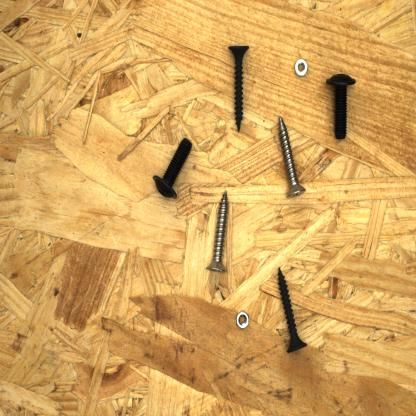screw: (275, 263, 312, 356), (151, 132, 195, 202), (277, 113, 309, 203), (203, 189, 234, 276), (324, 67, 358, 143), (226, 42, 253, 136)
